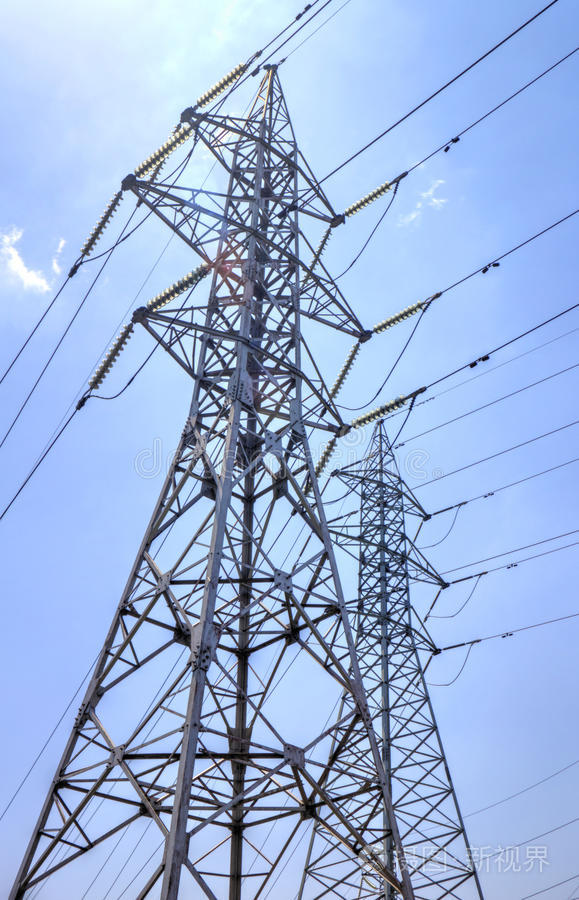insulator: (145, 260, 215, 310), (89, 324, 133, 391), (134, 128, 191, 176), (80, 191, 121, 256), (195, 60, 242, 109), (374, 298, 424, 334), (349, 395, 402, 426), (344, 180, 391, 213)
